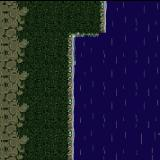Interaction: (58, 26, 81, 160), (81, 0, 113, 46)
Slow: (75, 37, 160, 160), (107, 0, 160, 37)
